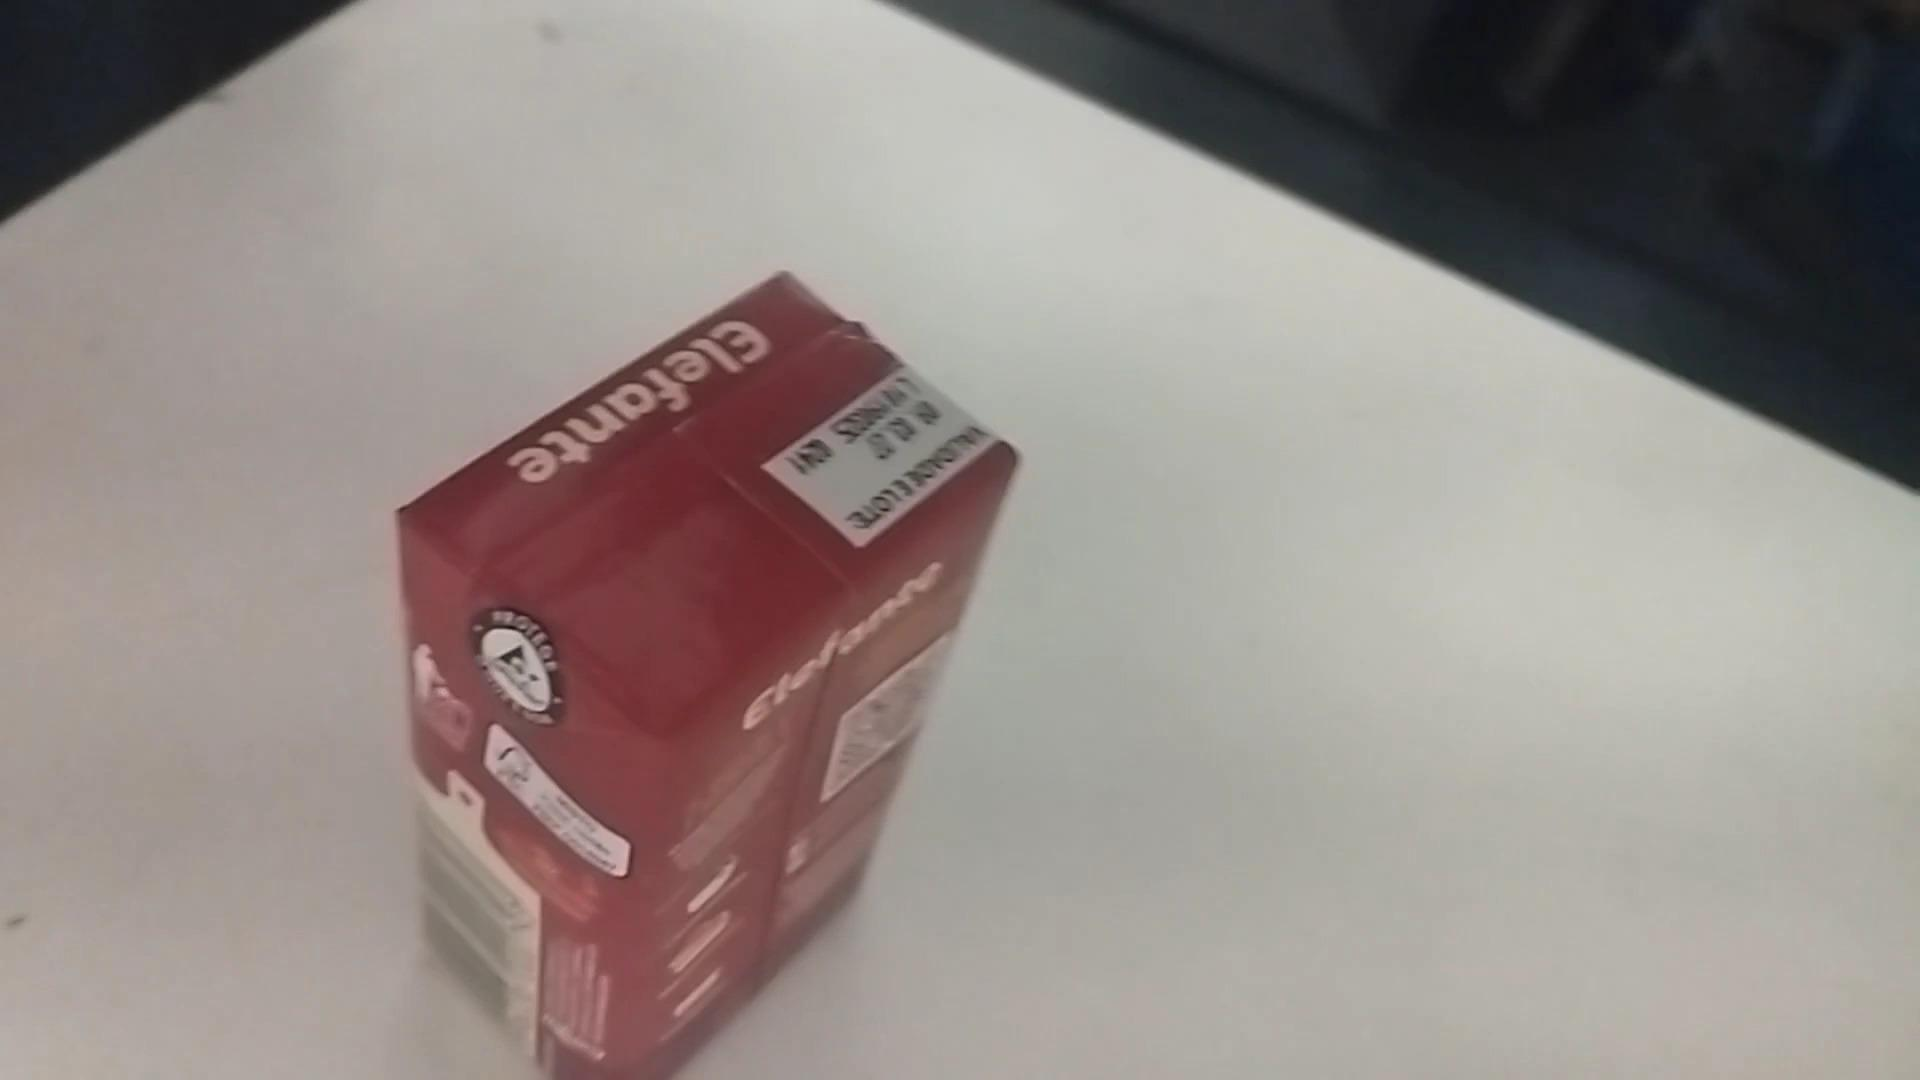tomate: (382, 272, 1027, 1063)
